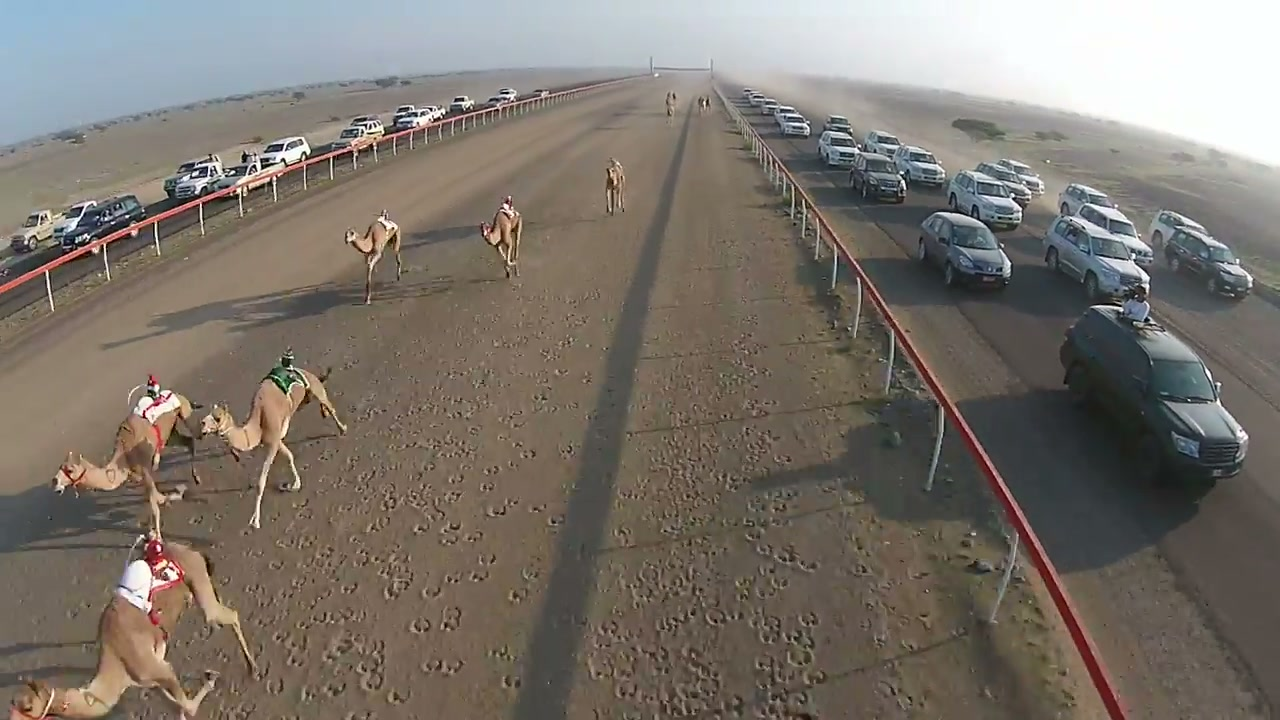animal_foot_print: (228, 308, 524, 698), (602, 369, 826, 686)
